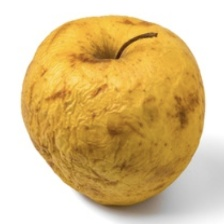apple: (43, 27, 193, 185)
